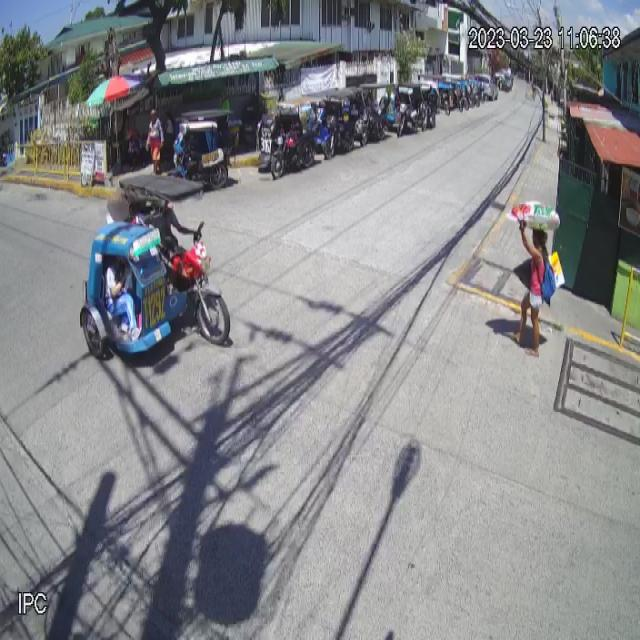Tricycle: (80, 174, 231, 366)
